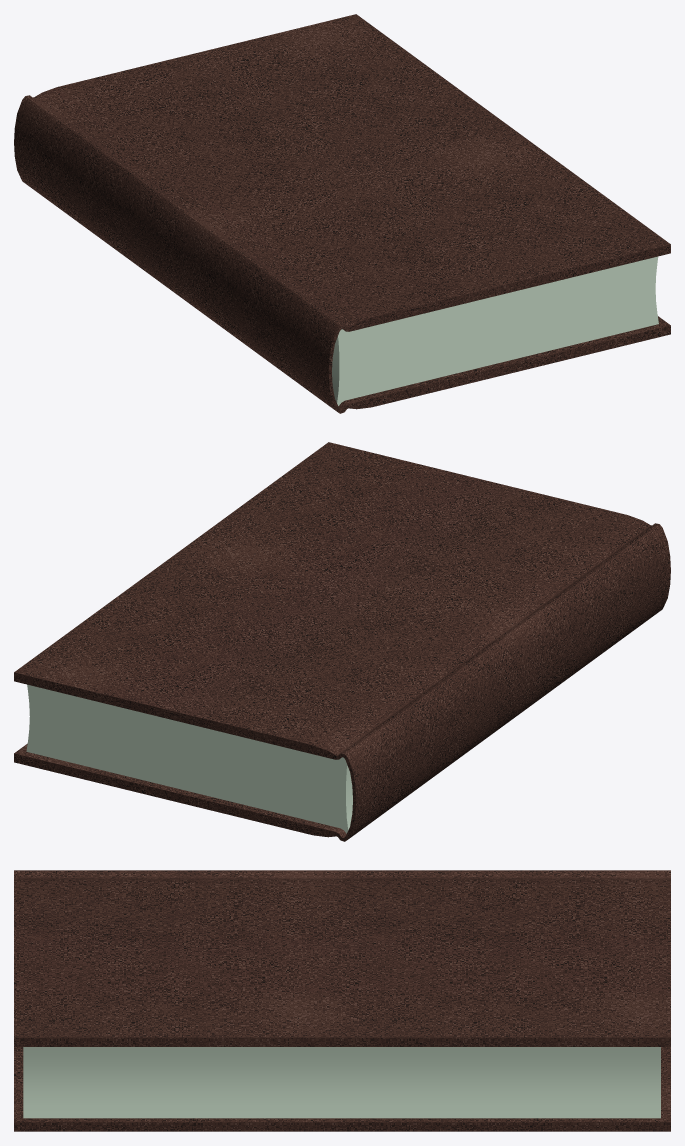
The model's file is book.glb.
The picture shows the model from 3 angles, top to bottom: view 1: azimuth 30°, elevation 25°; view 2: azimuth 150°, elevation 25°; view 3: azimuth 270°, elevation 25°; orthographic projection. The views are drawn at different scales.
Visible parts, largest first — view 1: book_01; view 2: book_01; view 3: book_01.
Boxes of the visible parts, box(x1,y1,x2,y2) form: book_01: box(14, 14, 670, 413); book_01: box(14, 442, 670, 841); book_01: box(14, 870, 670, 1131).
Bounding box in the file's own units: 2.7 × 0.6785 × 4.3.
Materials: 2 (1 with a texture image).
